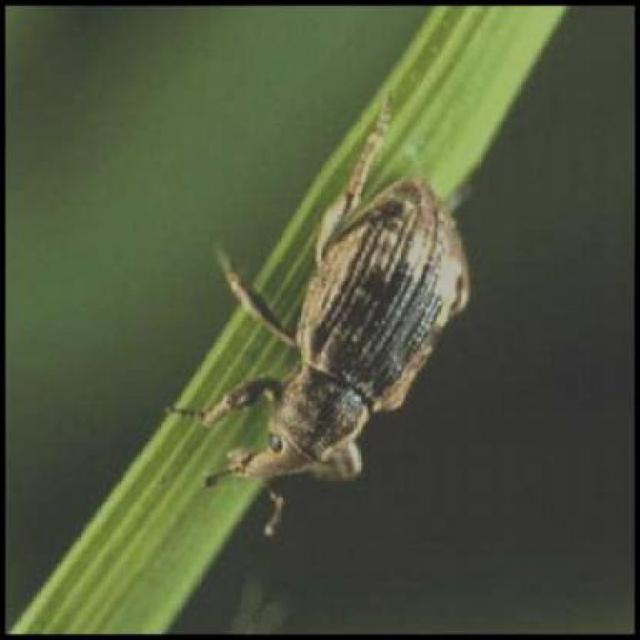rice-bug: (194, 134, 477, 500)
